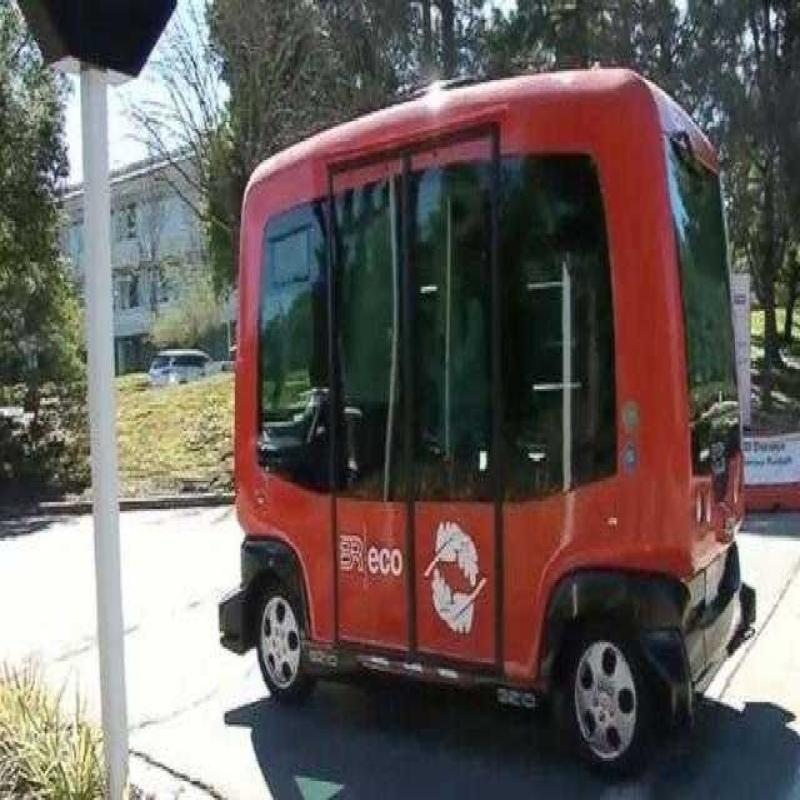bus: (234, 105, 705, 753)
